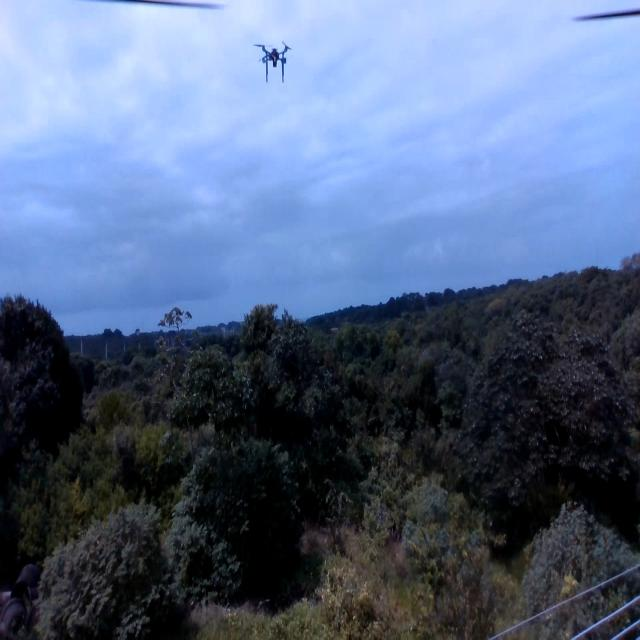-uav-: (248, 33, 300, 93)
